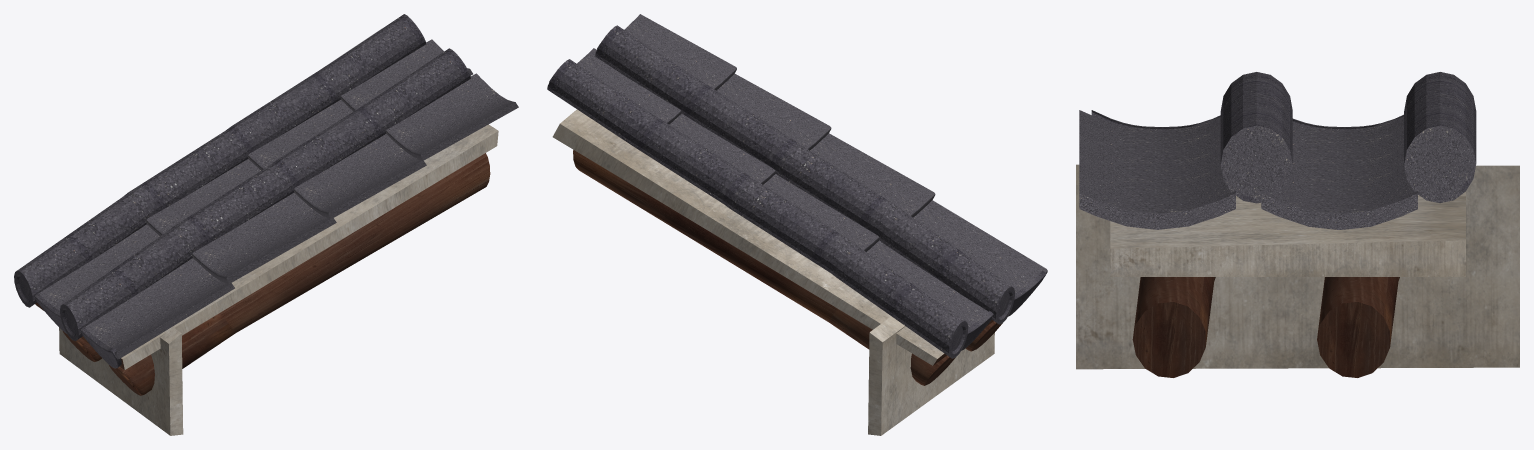
File: SM_Roof_55.fbx
3 views of the same model, side by side, from view 1: azimuth 30°, elevation 25°; view 2: azimuth 150°, elevation 25°; view 3: azimuth 270°, elevation 25° (orthographic). The views are drawn at different scales.
Visible parts, largest first — view 1: SM_Roof_55; view 2: SM_Roof_55; view 3: SM_Roof_55.
Part boxes in pixels (x1,y1,x2,y2): SM_Roof_55: (14, 14, 518, 435); SM_Roof_55: (547, 14, 1047, 435); SM_Roof_55: (1076, 72, 1519, 377).
Size of the model in its own units: 232 by 108 by 148.
3 materials, 3 textured.
